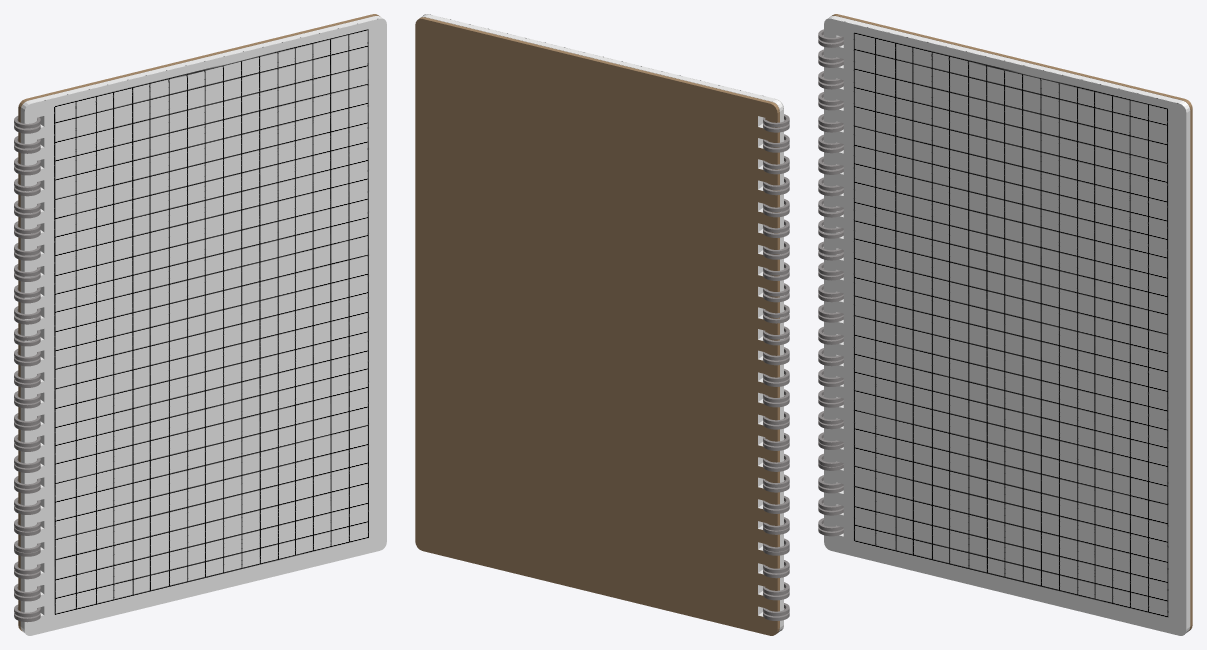
File: Notebook.fbx
3 renders of one model, left to right at view 1: azimuth 30°, elevation 25°; view 2: azimuth 150°, elevation 25°; view 3: azimuth 330°, elevation 25°, orthographic.
Visible parts, largest first — view 1: Notebook, Cylinder.021, Plane.001; view 2: Plane.001, Cylinder.021, Notebook; view 3: Notebook, Cylinder.021, Plane.001.
Part boxes in pixels (x1,y1,x2,y2): Notebook: [24, 18, 386, 635]; Cylinder.021: [14, 116, 40, 622]; Plane.001: [18, 14, 381, 632]; Plane.001: [415, 14, 783, 635]; Cylinder.021: [763, 114, 789, 620]; Notebook: [423, 14, 783, 630]; Notebook: [824, 18, 1186, 635]; Cylinder.021: [818, 29, 843, 536]; Plane.001: [828, 14, 1192, 632].
Bounding box in the file's own units: 334 × 460 × 20.96.
1 material, 1 textured.
